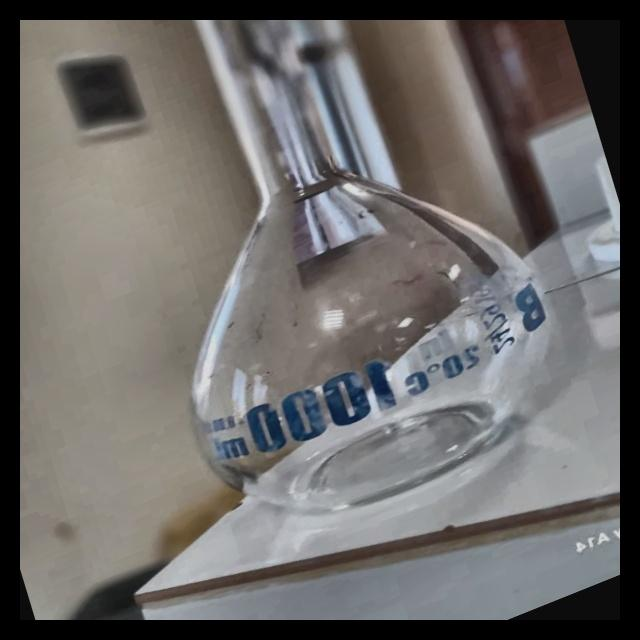Volumetric flask: (20, 20, 573, 557)
